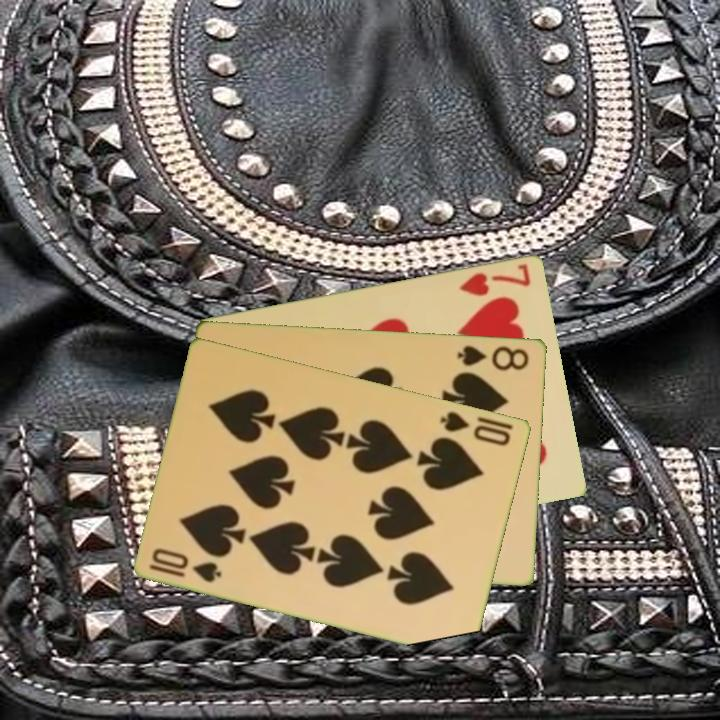10s: (146, 544, 225, 585), (437, 407, 514, 449)
7h: (456, 260, 534, 298)
8s: (455, 341, 532, 374)
